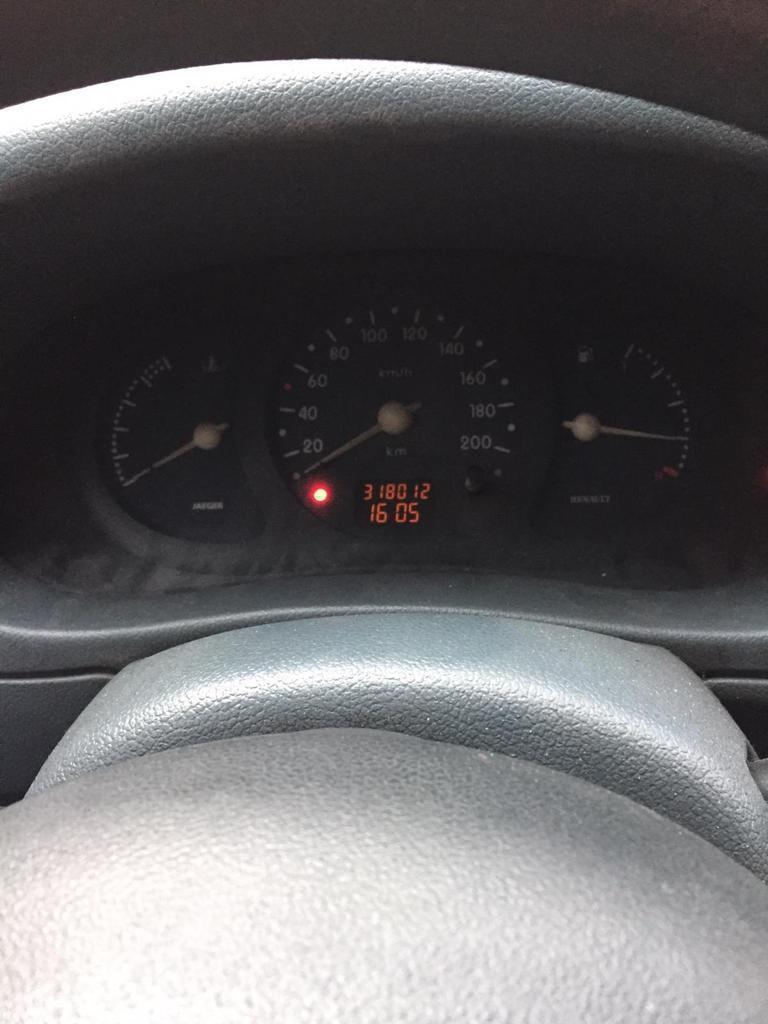0: (394, 502, 407, 522), (397, 482, 407, 499)
1: (369, 502, 375, 523), (378, 483, 383, 500), (414, 483, 418, 499)
2: (420, 482, 431, 499)
3: (363, 482, 372, 499)
5: (408, 501, 419, 523)
6: (376, 502, 387, 522)
8: (385, 482, 395, 499)
odometer: (354, 477, 446, 528)
